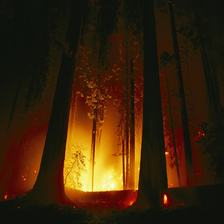fire: (70, 148, 143, 195)
